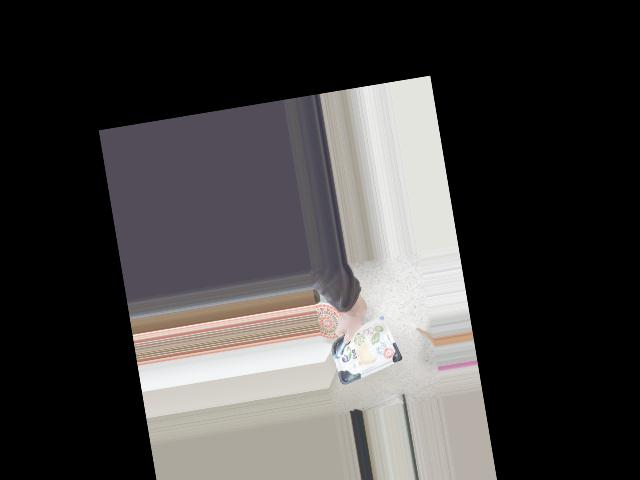cheese: (326, 314, 401, 386)
